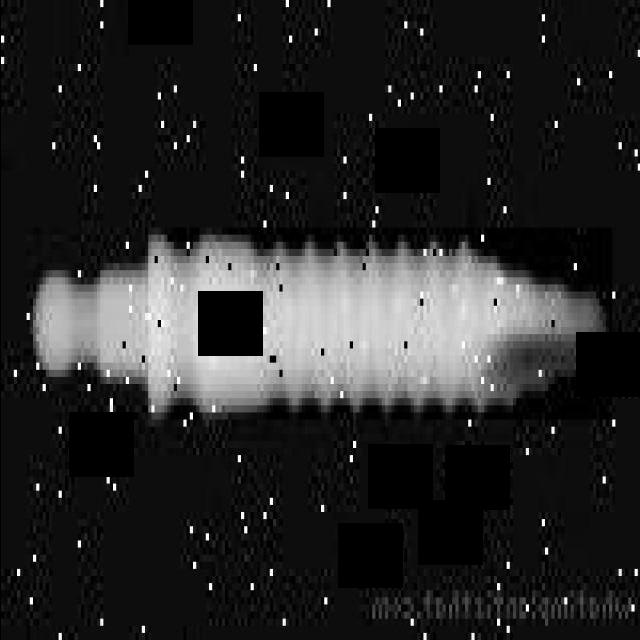Leone Implant: (144, 228, 611, 420)
